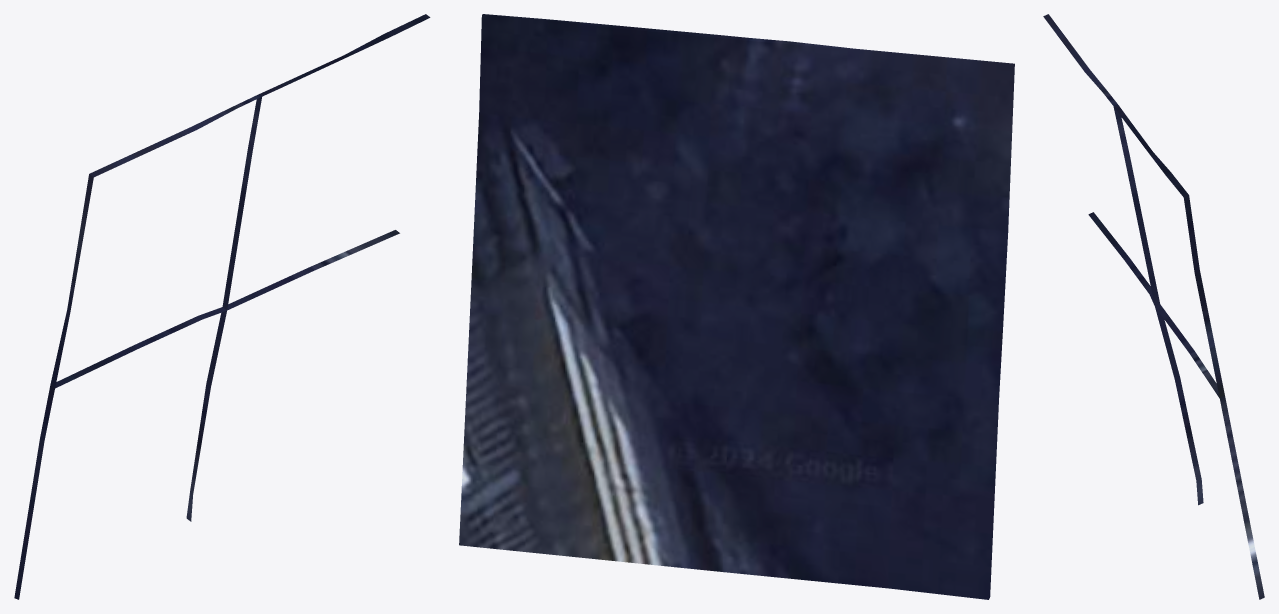
3 views of the same model, side by side, from view 1: azimuth 30°, elevation 25°; view 2: azimuth 150°, elevation 25°; view 3: azimuth 270°, elevation 25° (orthographic). The views are drawn at different scales.
Bounding box in the file's own units: 38.07 × 37.62 × 18.29.
Materials: 1 (1 with a texture image).
